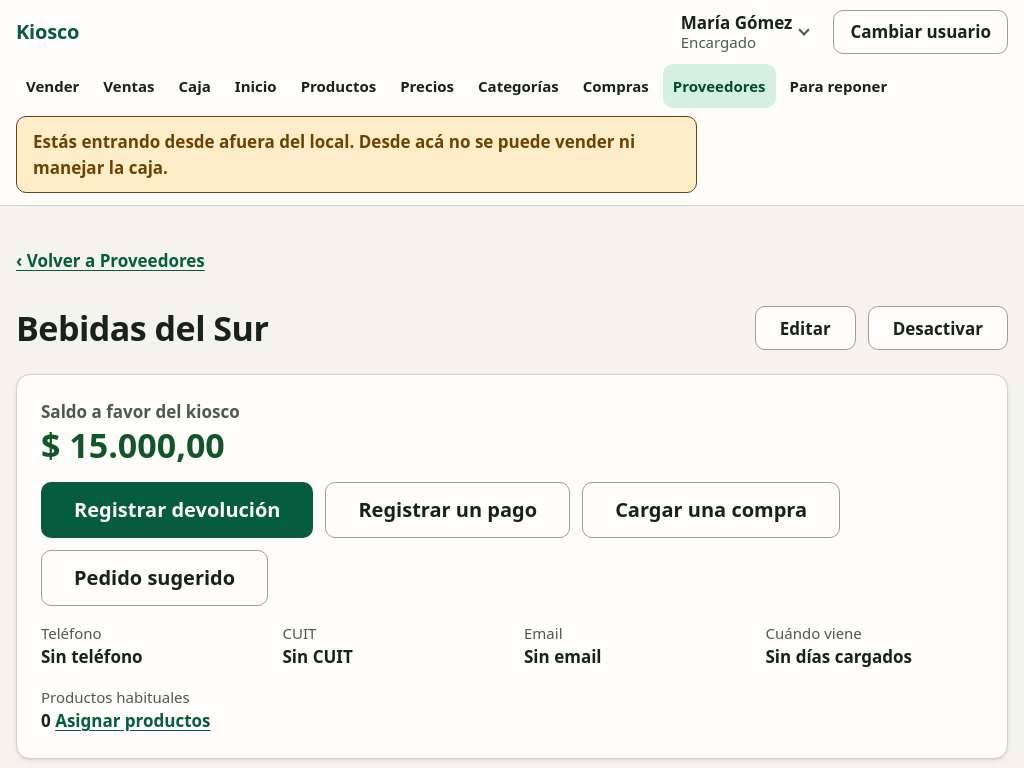
Test case: Formulario de la devolución › desde afuera no se ofrece el efectivo que entra a la caja
The image size is (1024, 768).
Click the button "Registrar devolución".
click(177, 510)  # box [41,482,313,538]
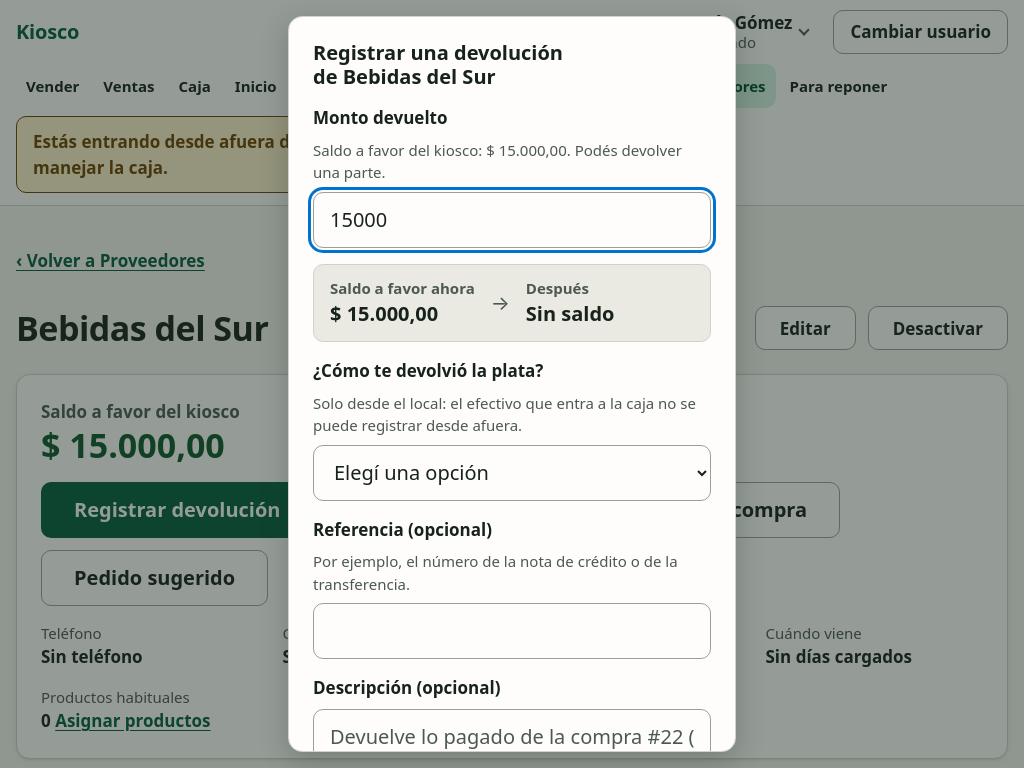
Check: the text "Solo desde el local" is shown, box [313,392,696,435]
